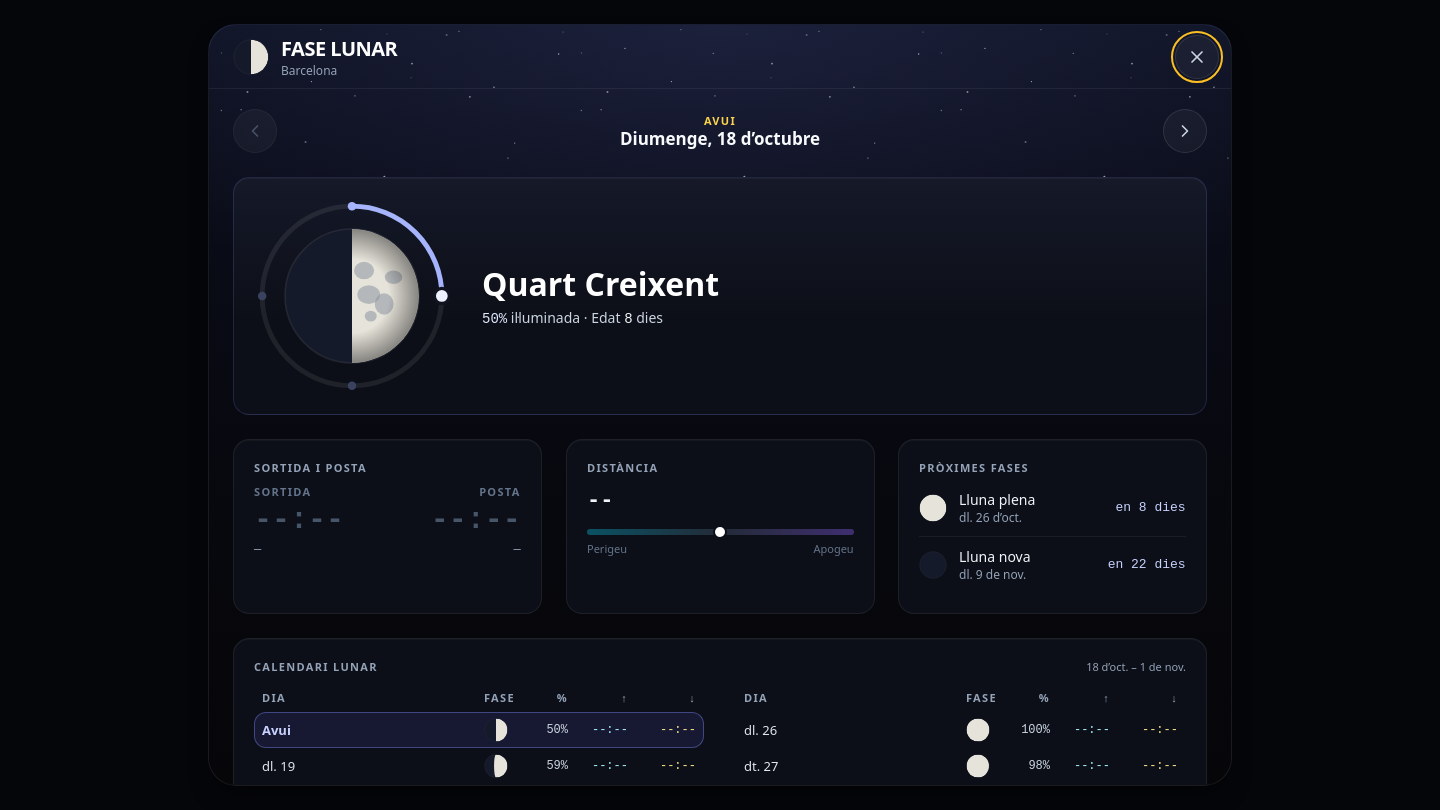
Test case: MoonModal — navegació per dies › el calendari té avui + 14 dies i tocar-ne una fila tria aquell dia
The width and height of the screenshot is (1440, 810).
Expected: the button "Avui 50% --:-- --:--" is shown, [254,712,704,748]
Click the button "dl. 26 100% --:-- --:--": (761, 730) [736,712,1186,748]
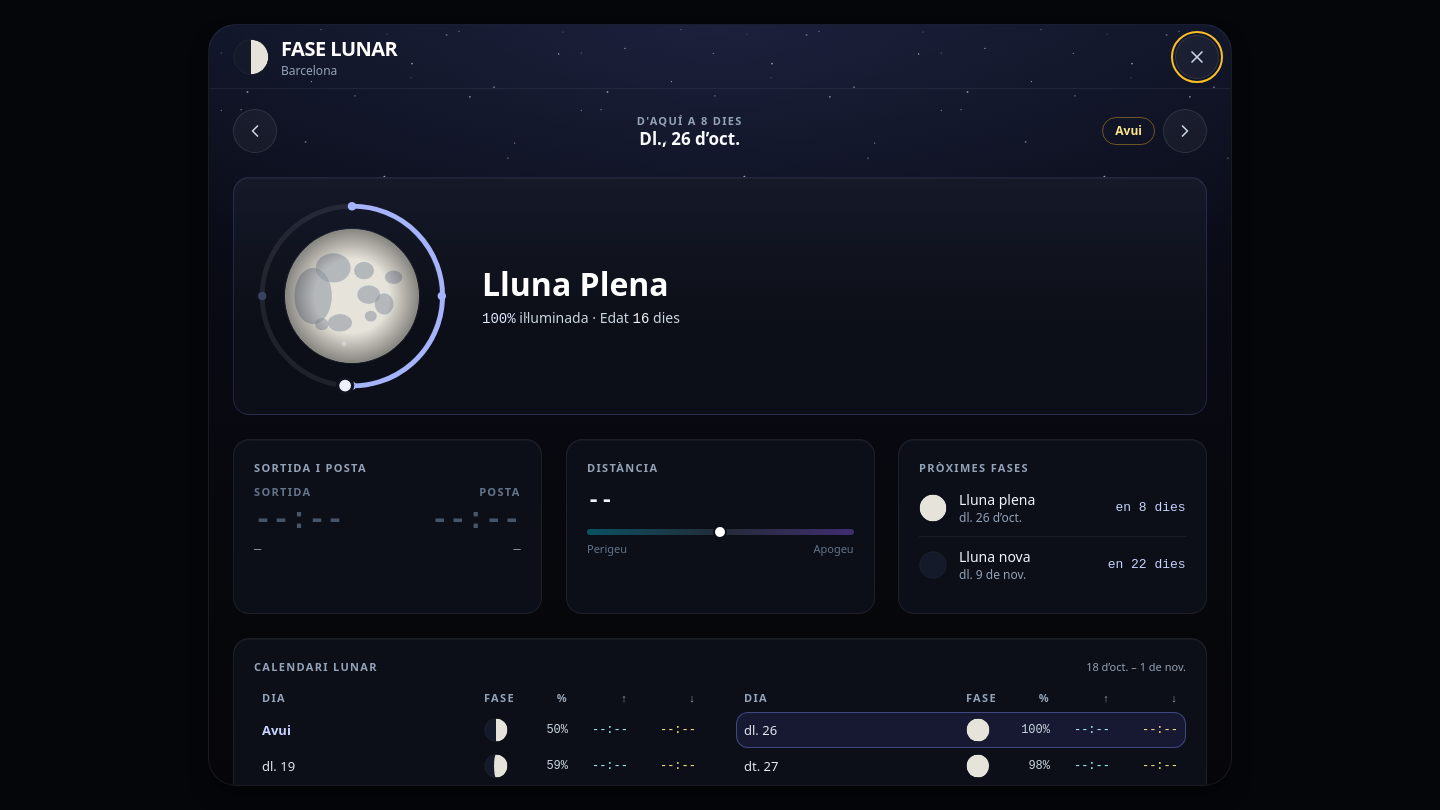
Expected: the text "Dl., 26 d’oct." is shown, [639,127,740,150]
